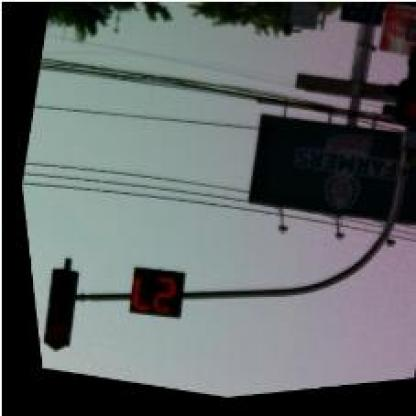red: (24, 262, 79, 354), (385, 51, 414, 140)
